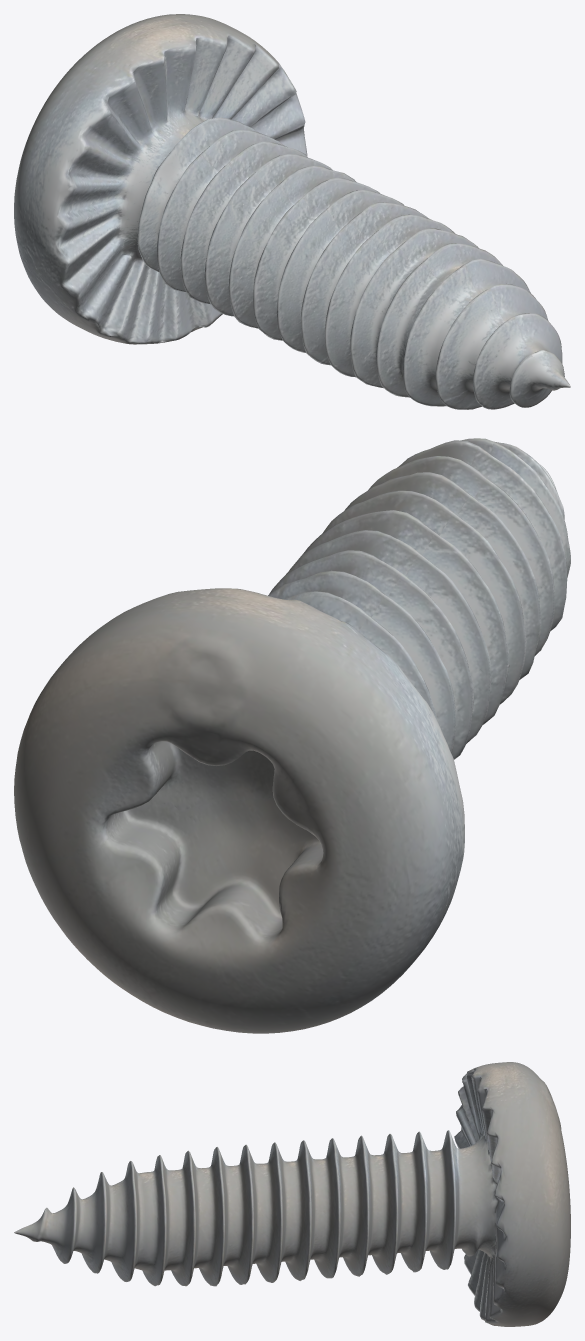
The model's file is screw3.glb.
3 renders of one model, top to bottom at view 1: azimuth 30°, elevation 25°; view 2: azimuth 150°, elevation 25°; view 3: azimuth 270°, elevation 25°, orthographic. The views are drawn at different scales.
Parts seen in each view (by area): view 1: screw2; view 2: screw2; view 3: screw2.
Boxes of the visible parts, bbox=[...] form: screw2: bbox=[14, 14, 570, 409]; screw2: bbox=[14, 438, 570, 1033]; screw2: bbox=[14, 1062, 570, 1326].
Size of the model in its own units: 0.2495 by 0.25 by 0.5259.
1 material, 1 textured.
